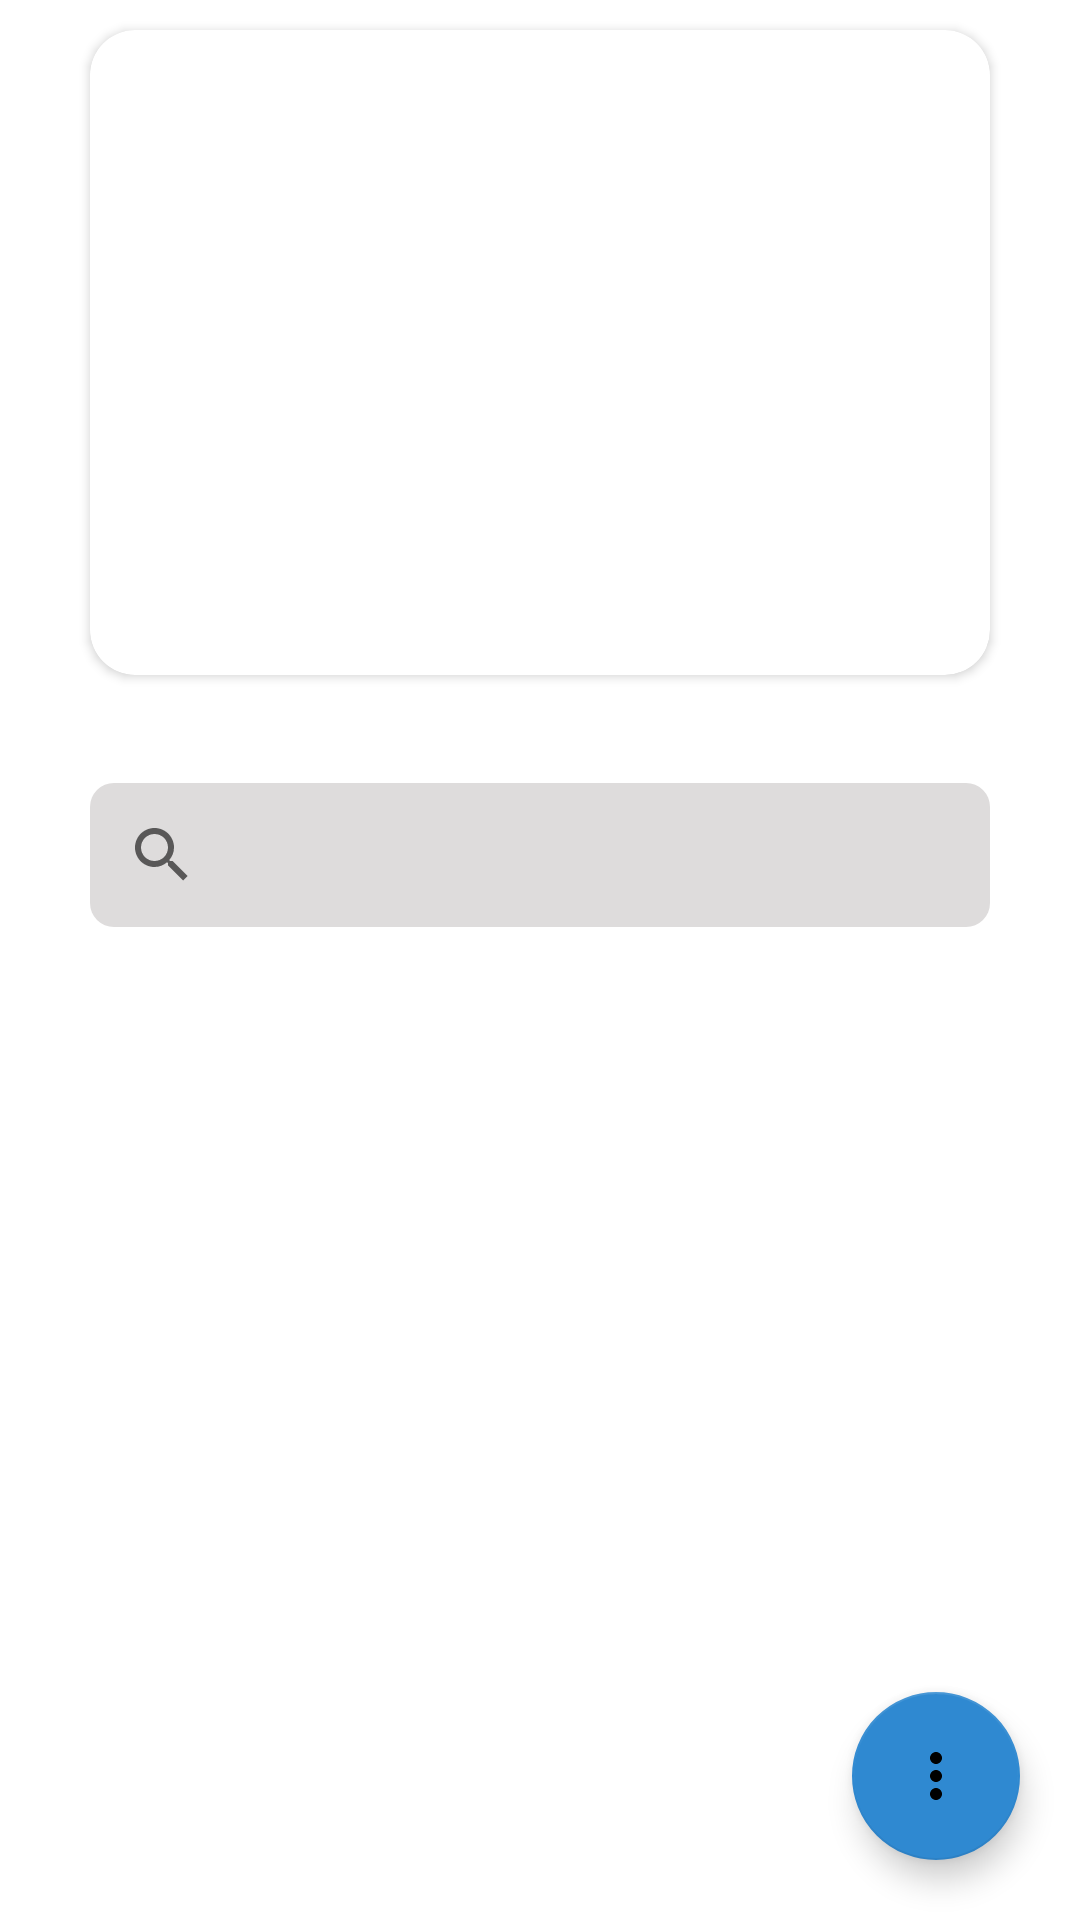

Named icons in this screenshot (1080*1920) and their bounding boxes, box=[x1, y1, x2, y2]:
more vert: box=[852, 1692, 1020, 1860]
